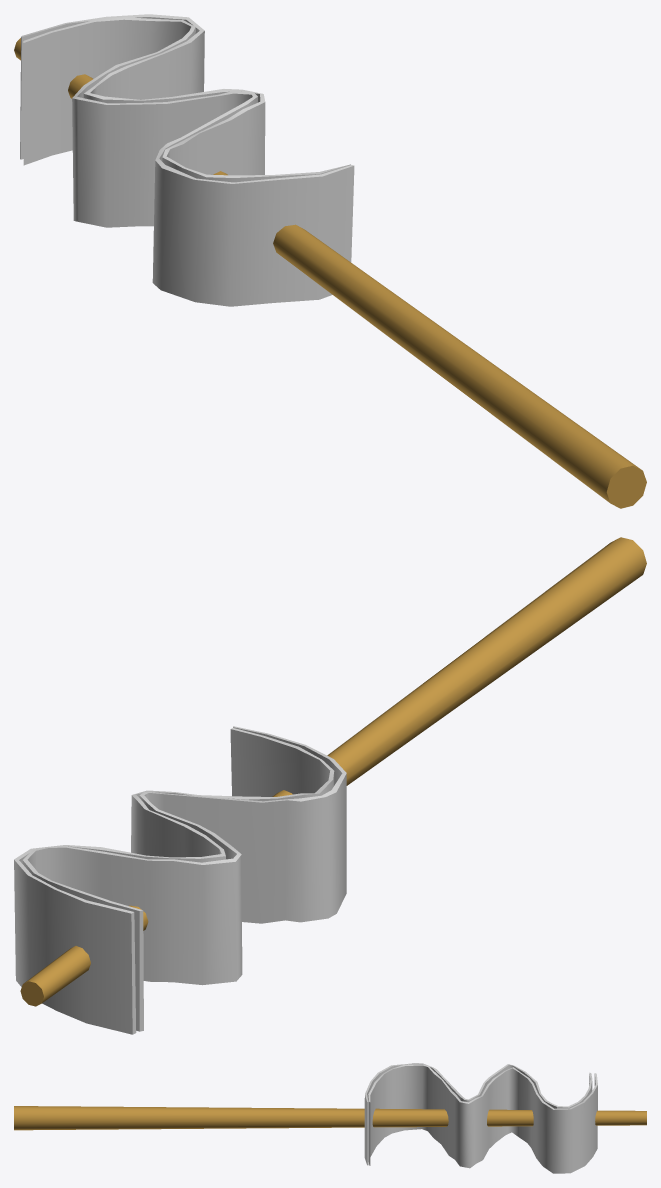
The model's file is fish cake.fbx.
3 renders of one model, top to bottom at view 1: azimuth 30°, elevation 25°; view 2: azimuth 150°, elevation 25°; view 3: azimuth 270°, elevation 25°, orthographic. The views are drawn at different scales.
Parts seen in each view (by area): view 1: main, stcik; view 2: main, stcik; view 3: main, stcik.
Boxes of the visible parts, x1,y1,x2,y2 form: main: (20,14,354,306); stcik: (14,38,646,508); main: (14,726,346,1034); stcik: (20,537,646,1006); main: (364,1063,597,1173); stcik: (14,1106,646,1130).
Bounding box in the file's own units: 3 × 2.1 × 17.63.
